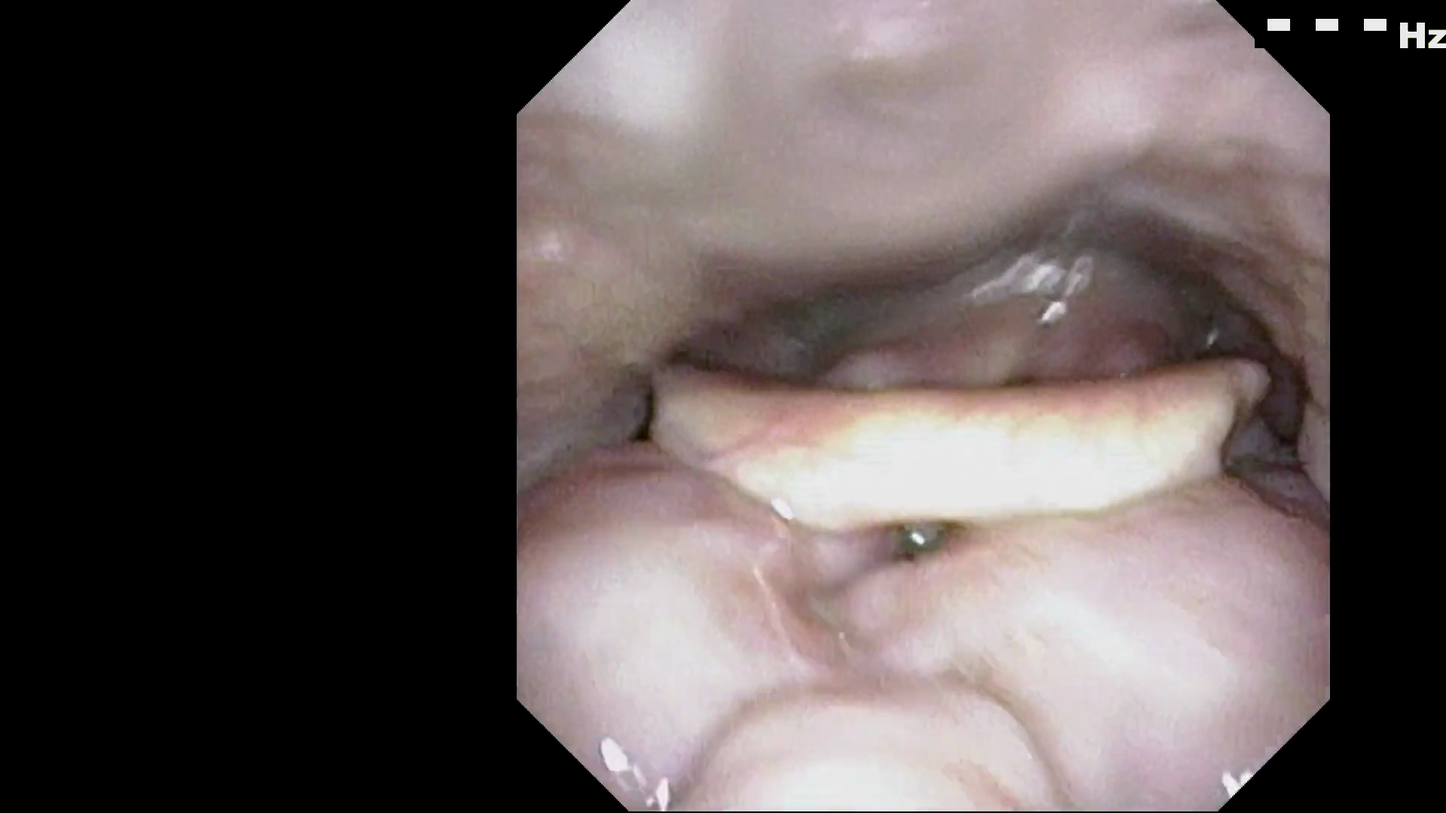epiglottis: (667, 390, 1288, 562)
trachea: (935, 386, 1089, 467)
